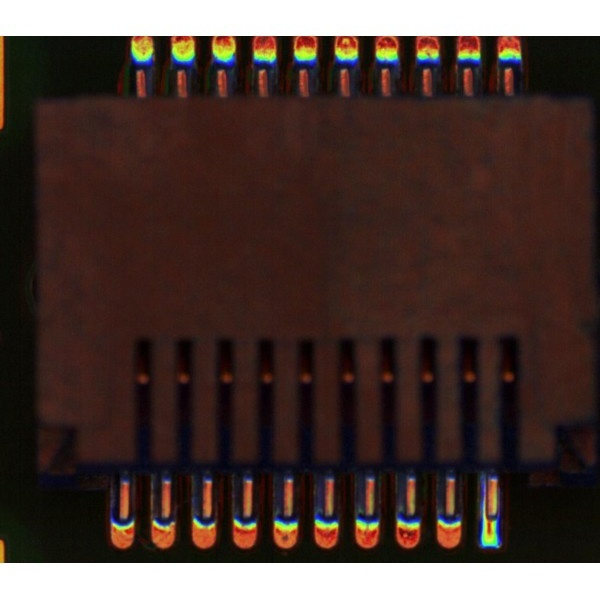Bad_qiaojiao: (481, 478, 487, 518)
